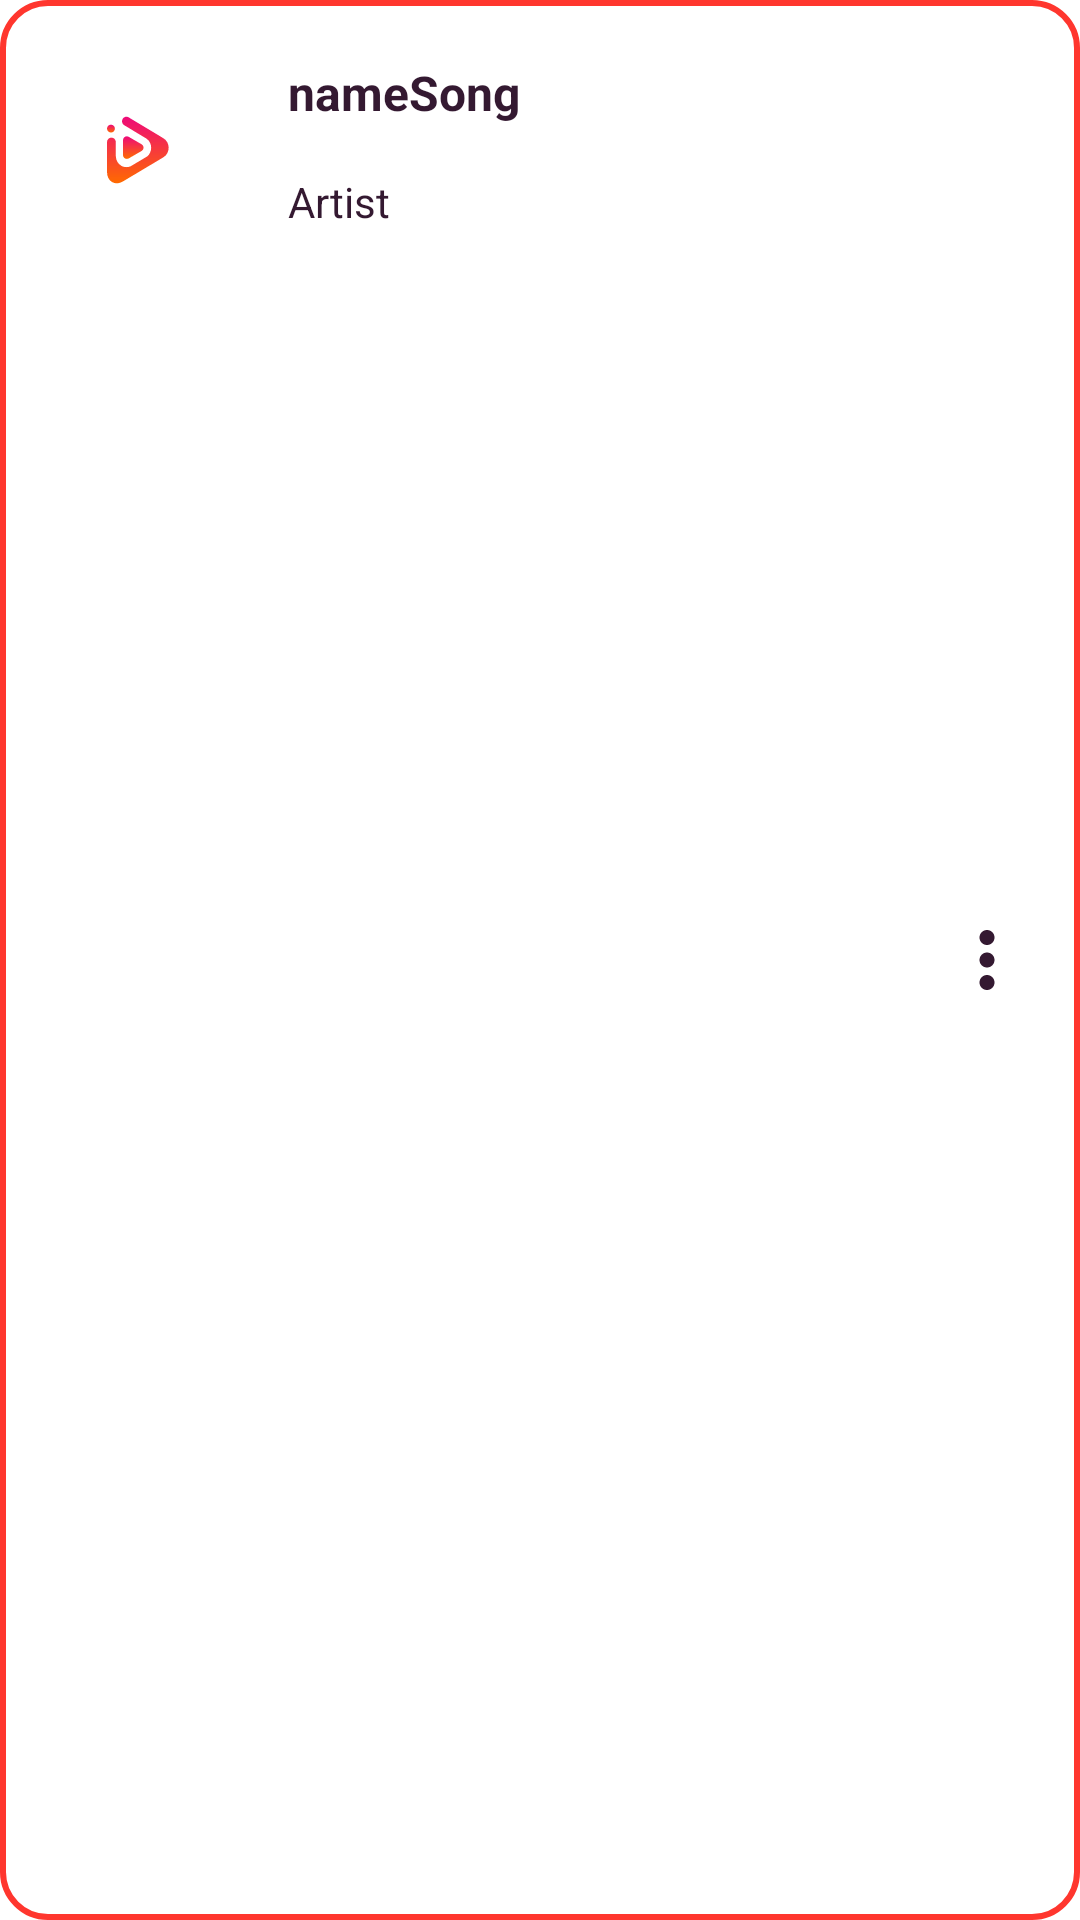

Icons on this 1080px x 1920px Android screen, each with its box as (x1, y1, x2, y2):
more: (979, 930, 995, 990)
